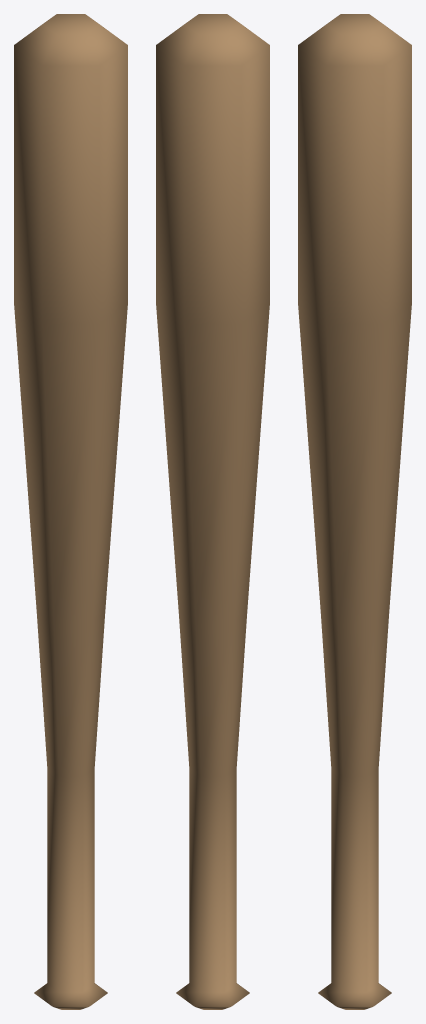
File: bate.glb
3 renders of one model, left to right at view 1: azimuth 30°, elevation 25°; view 2: azimuth 210°, elevation 25°; view 3: azimuth 330°, elevation 25°, orthographic.
Visible parts, largest first — view 1: bate; view 2: bate; view 3: bate.
Part boxes in pixels (x1,y1,x2,y2): bate: [14, 14, 127, 1009]; bate: [156, 14, 269, 1009]; bate: [298, 14, 411, 1009].
Bounding box in the file's own units: 0.0777 × 0.85 × 0.0897.
